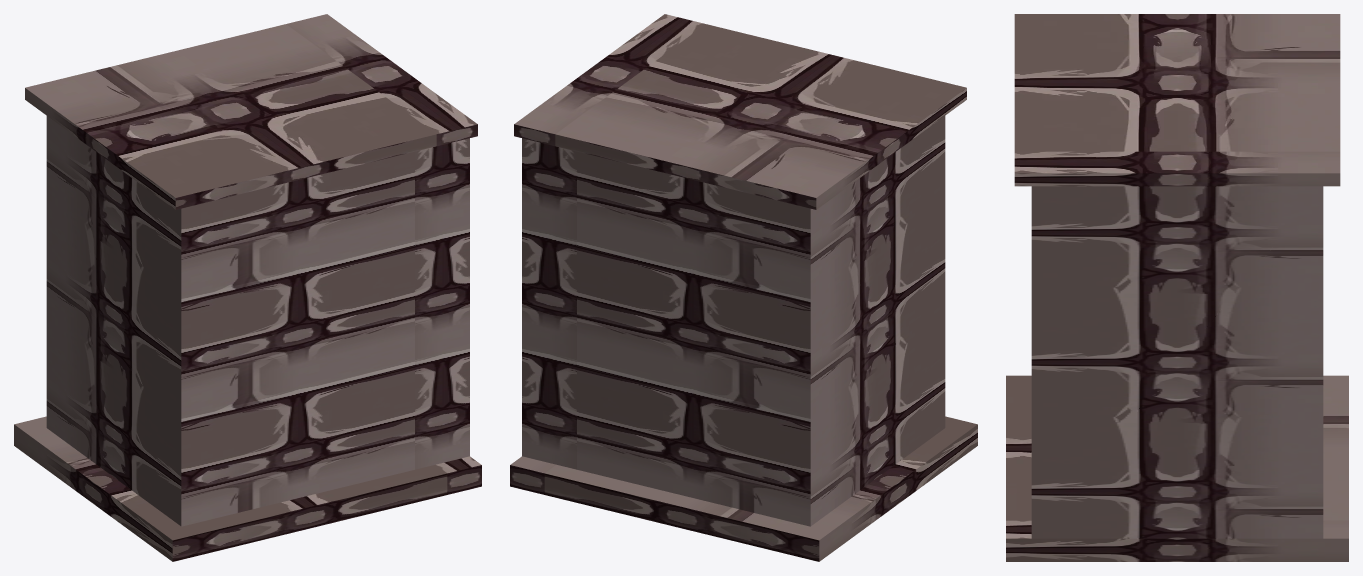
The model's file is stone_room_wall.glb.
The picture shows the model from 3 angles, left to right: view 1: azimuth 30°, elevation 25°; view 2: azimuth 150°, elevation 25°; view 3: azimuth 270°, elevation 25°; orthographic projection. The views are drawn at different scales.
Parts seen in each view (by area): view 1: prop (×2); view 2: prop (×2); view 3: prop (×2).
Boxes of the visible parts, <box> form: prop (×2): <box>14,14,481,561</box>; prop (×2): <box>510,14,977,561</box>; prop (×2): <box>1006,14,1348,561</box>.
Size of the model in its own units: 0.9 by 1 by 0.8.
Materials: 2 (2 with a texture image).
